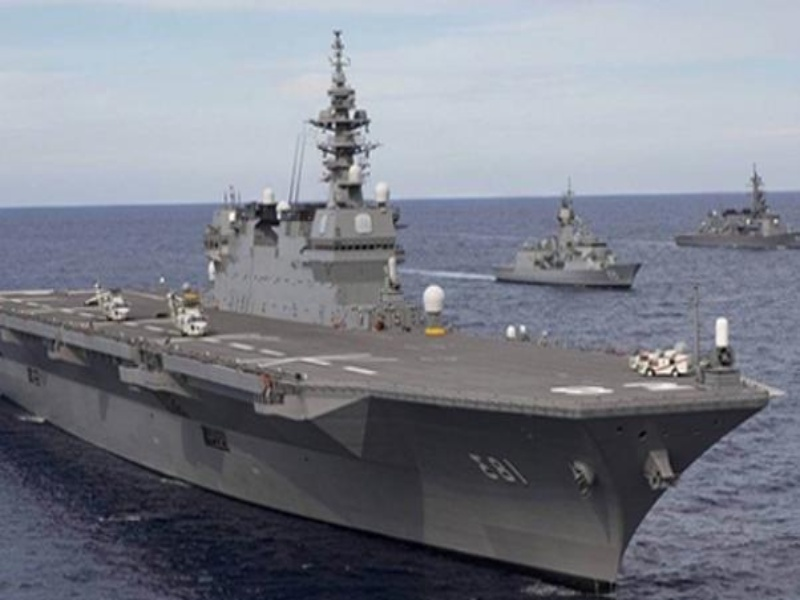carrier: (15, 93, 764, 586)
cruise: (503, 205, 641, 293), (683, 172, 795, 253)
